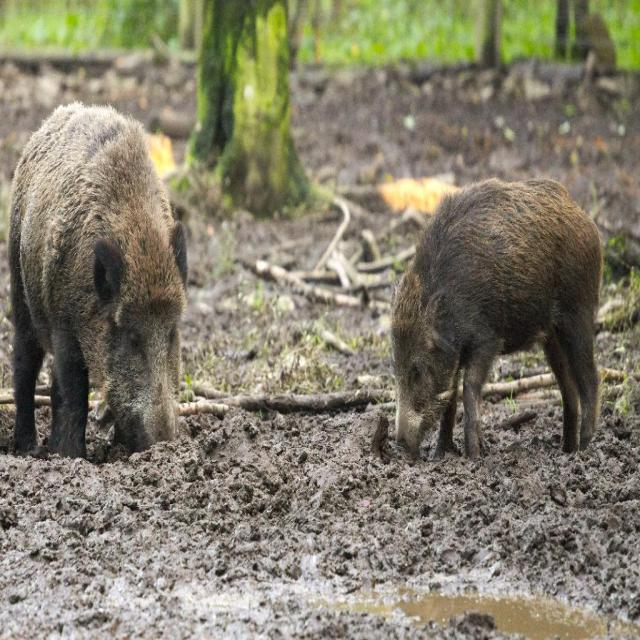Pig: (6, 97, 189, 461), (387, 173, 610, 460)
